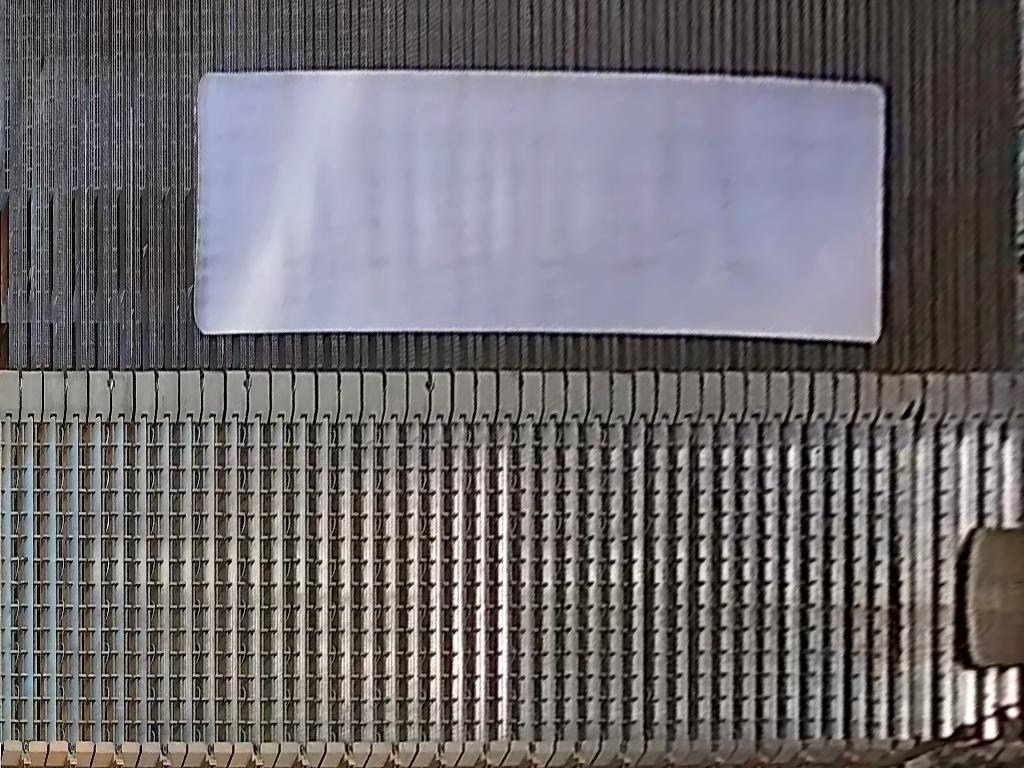steel: (191, 71, 886, 341), (959, 528, 1024, 667)
